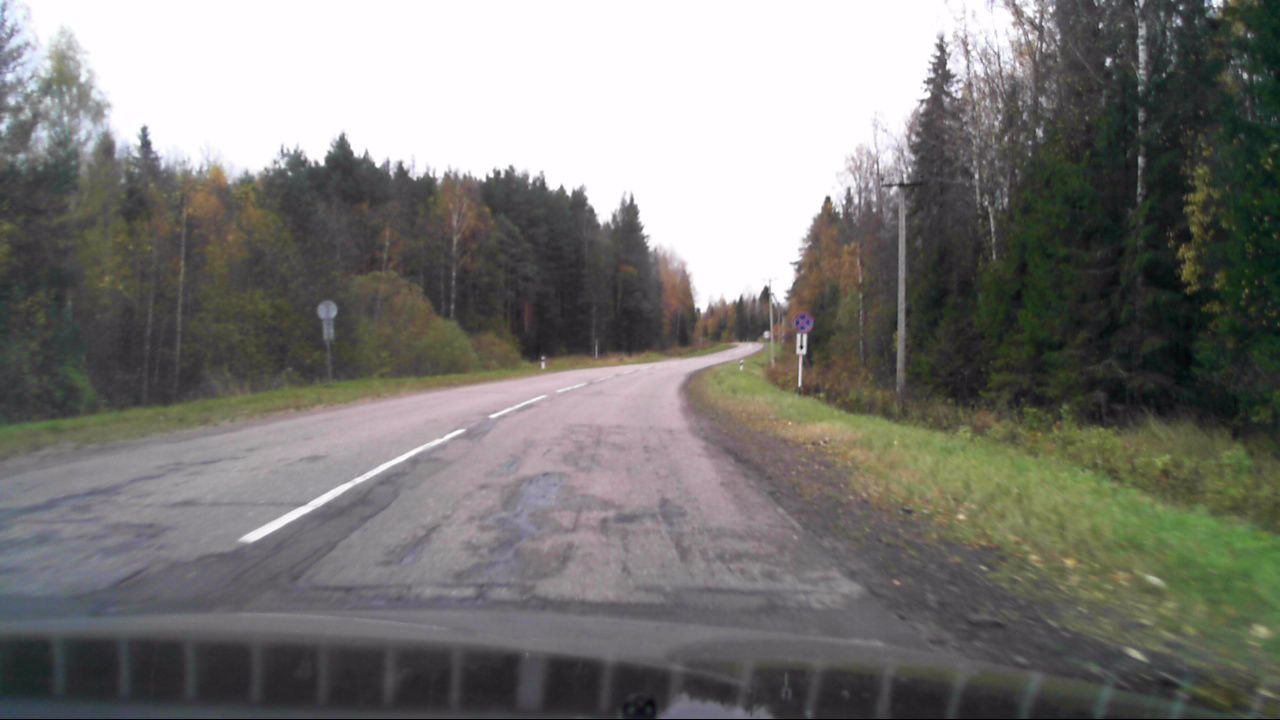No Parking: (791, 310, 814, 332)
